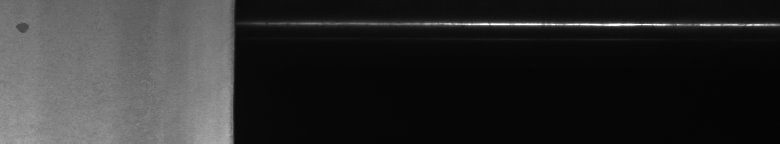fi: (12, 16, 32, 40)
